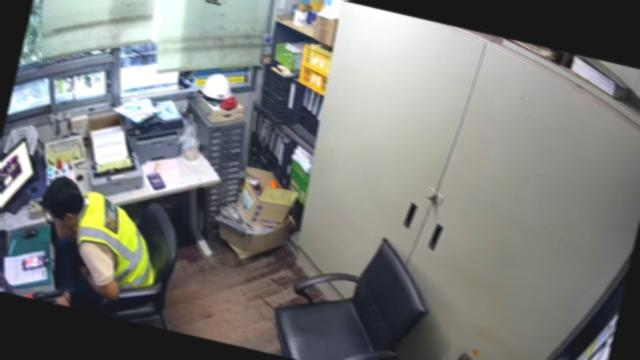Head: (41, 177, 85, 229)
People: (41, 177, 155, 311)
Phone: (20, 255, 47, 271), (146, 172, 167, 190)
